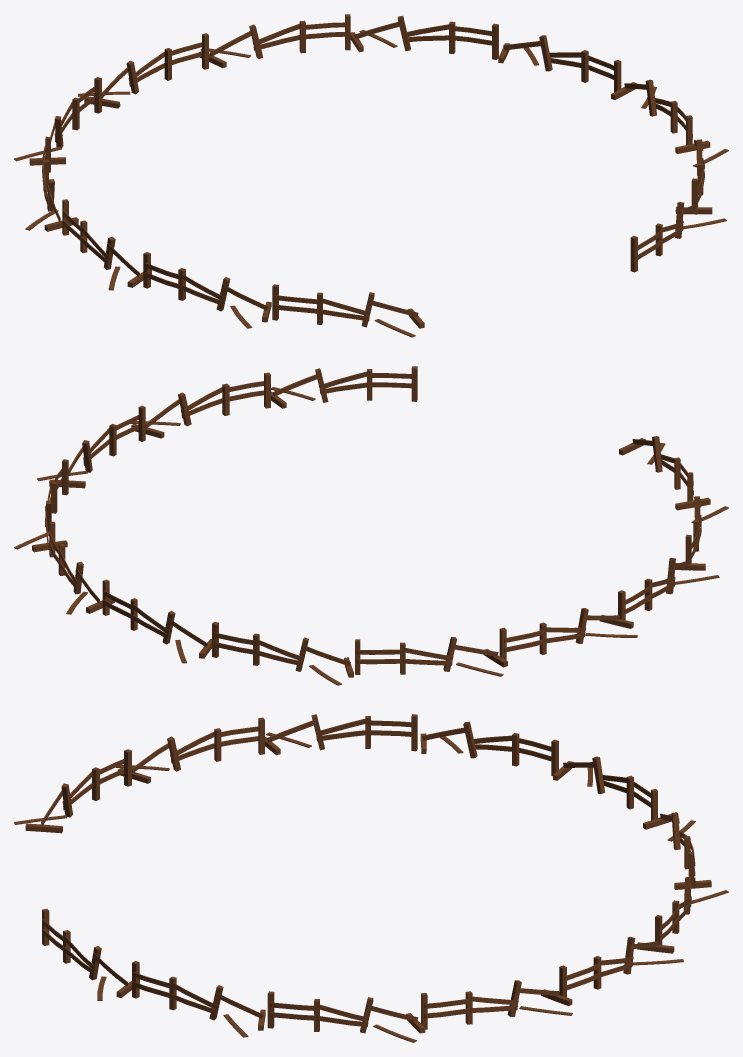
The model's file is Fences.fbx.
3 views of the same model, one above another, from view 1: azimuth 30°, elevation 25°; view 2: azimuth 150°, elevation 25°; view 3: azimuth 270°, elevation 25° (orthographic). The views are drawn at different scales.
Visible parts, largest first — view 1: a; view 2: a; view 3: a.
Boxes of the visible parts, bbox=[...] form: a: bbox=[14, 14, 728, 337]; a: bbox=[14, 366, 728, 685]; a: bbox=[14, 714, 728, 1042].
Size of the model in its own units: 6168 by 327 by 6019.
